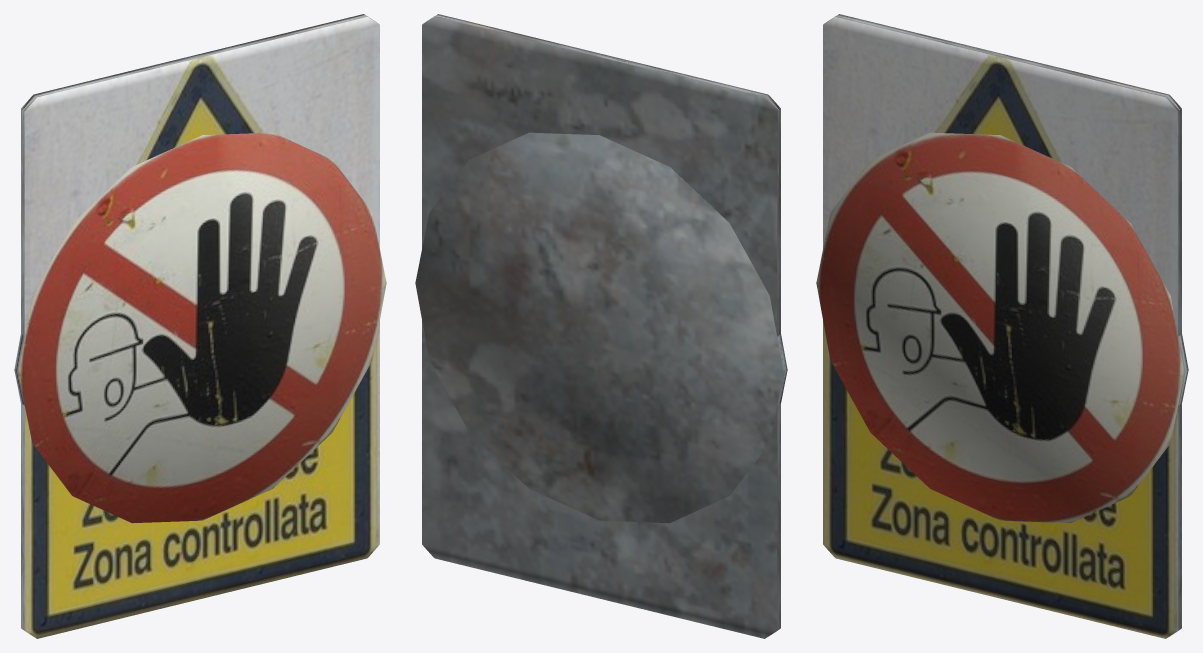
File: warnschilder_akw.fbx
3 renders of one model, left to right at view 1: azimuth 30°, elevation 25°; view 2: azimuth 150°, elevation 25°; view 3: azimuth 330°, elevation 25°, orthographic.
Visible parts, largest first — view 1: Mesh, Mesh (2); view 2: Mesh, Mesh (2); view 3: Mesh, Mesh (2).
Part boxes in pixels (x1,y1,x2,y2): Mesh: (14,132,386,523); Mesh (2): (21,14,379,638); Mesh: (415,132,787,523); Mesh (2): (422,14,780,638); Mesh: (816,132,1188,523); Mesh (2): (823,14,1181,638).
Size of the model in its own units: 200 by 281 by 3.7.
